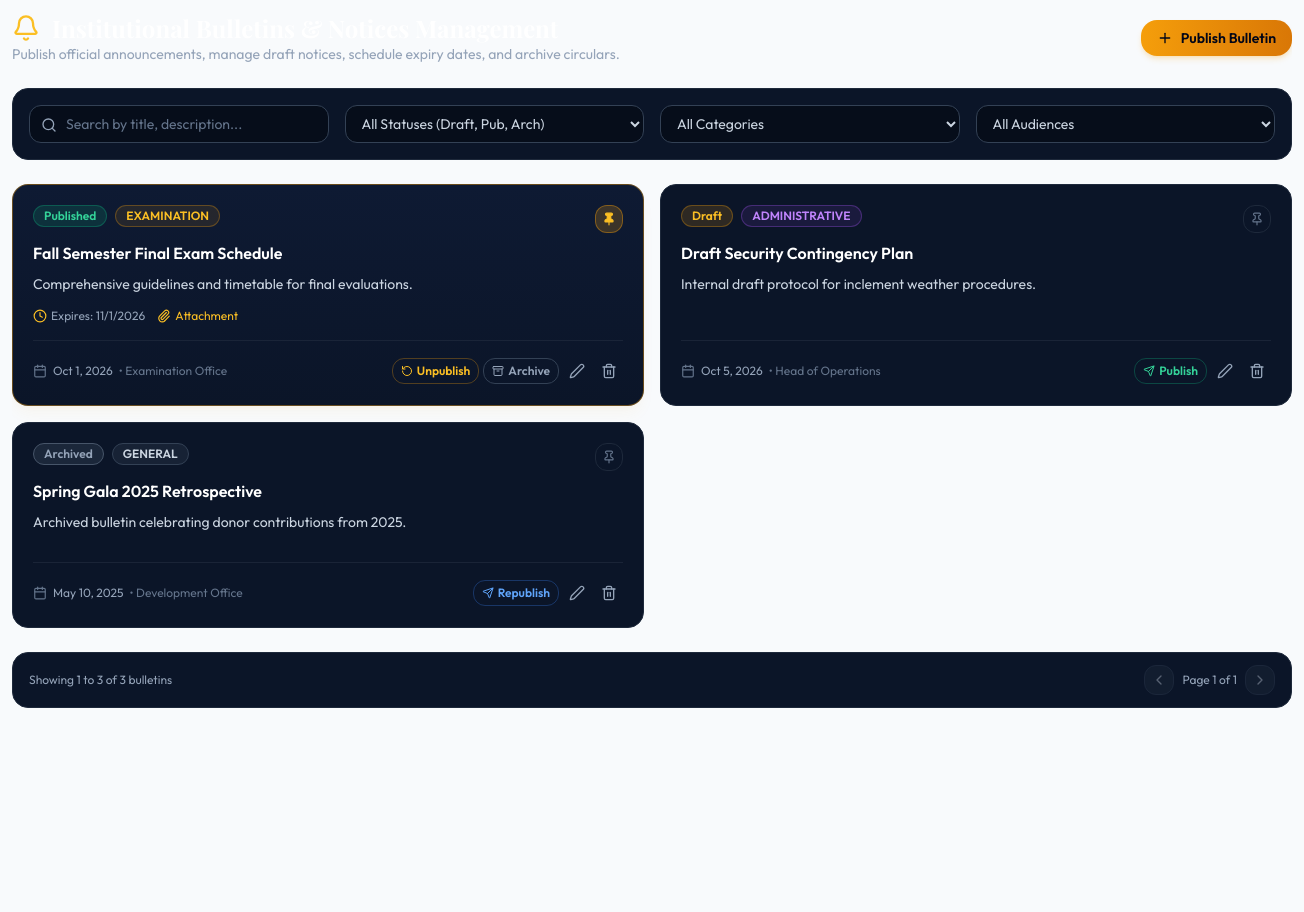
Test case: PHASE 15 — Notice and Event Management Frontend Test Suite › Admin Notices Management Section › should filter notices by status (DRAFT, PUBLISHED, ARCHIVED)
This screenshot has width=1304, height=912.
Check: the heading "Fall Semester Final Exam Schedule" is shown, box [33, 243, 282, 263]
# Filter to DRAFT only
Select "Drafts Only" in the dropdown with test id "notice-status-filter": (494, 124) [344, 105, 644, 143]
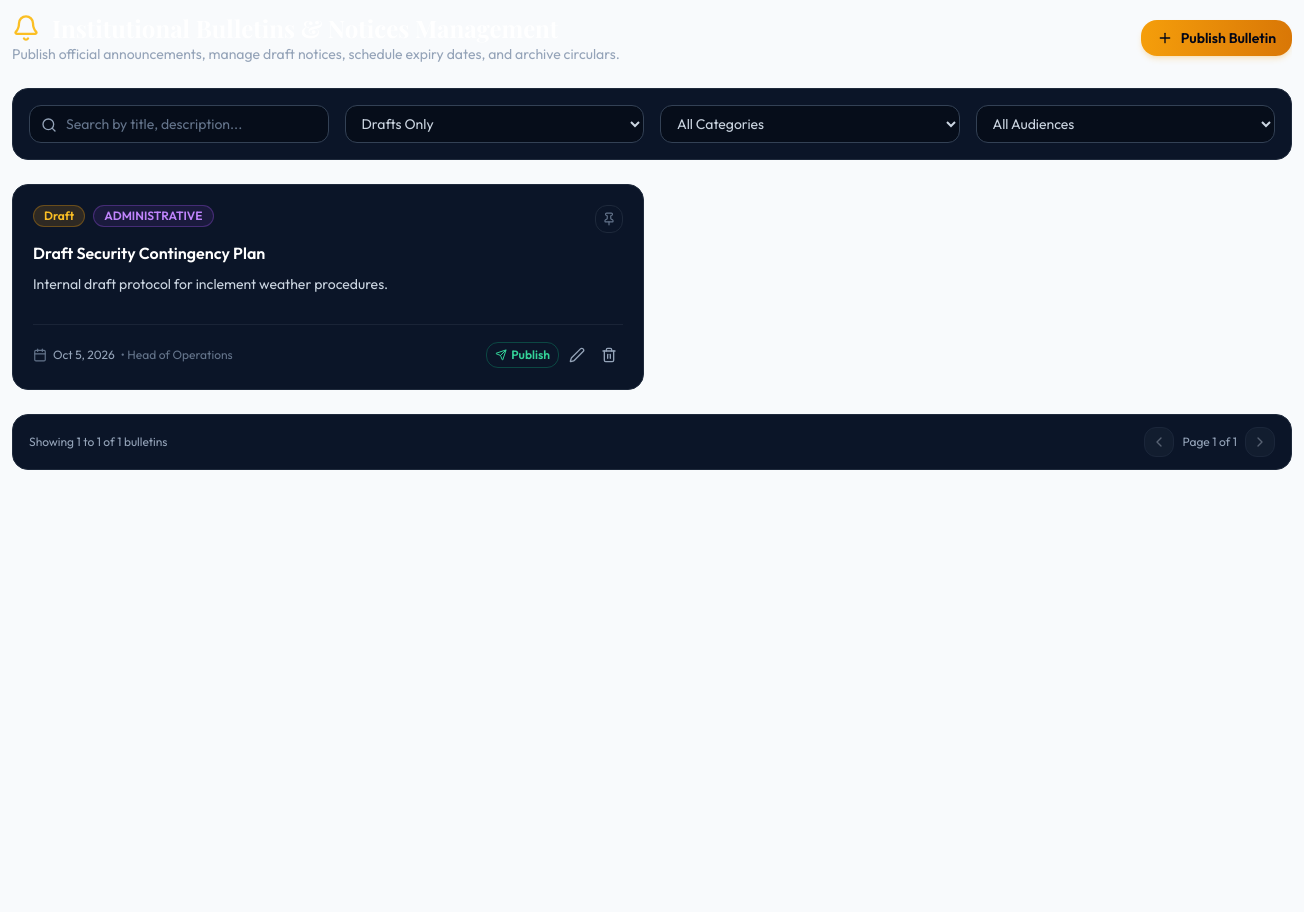
Check: the heading "Draft Security Contingency Plan" is shown, box [33, 243, 265, 263]
Check: the heading "Fall Semester Final Exam Schedule" is gone
Check: the heading "Spring Gala 2025 Retrospective" is gone
# Filter to ARCHIVED only
Select "Archived Only" in the dropdown with test id "notice-status-filter": (494, 124) [344, 105, 644, 143]
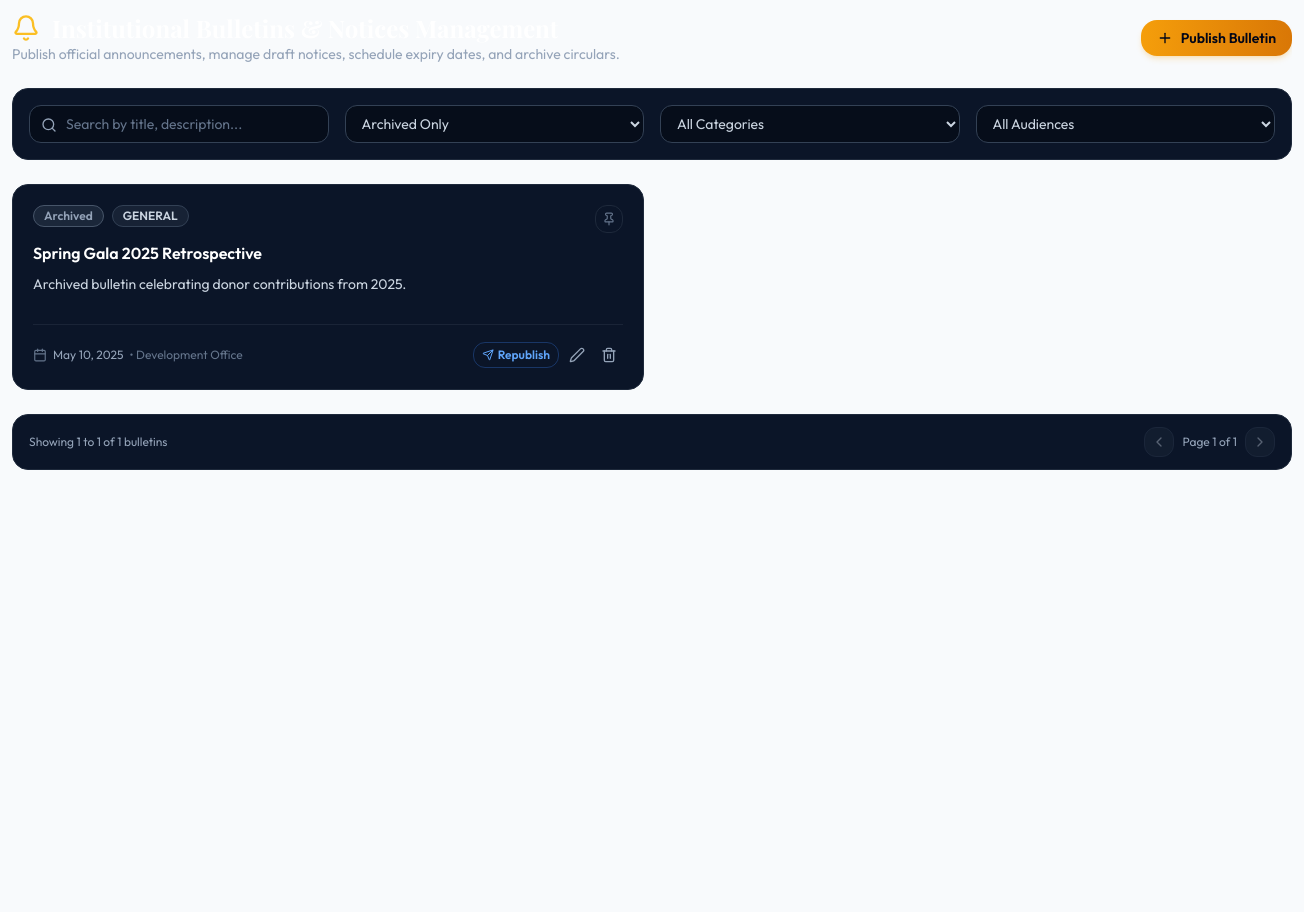
Check: the heading "Spring Gala 2025 Retrospective" is shown, box [33, 243, 262, 263]
Check: the heading "Draft Security Contingency Plan" is gone
